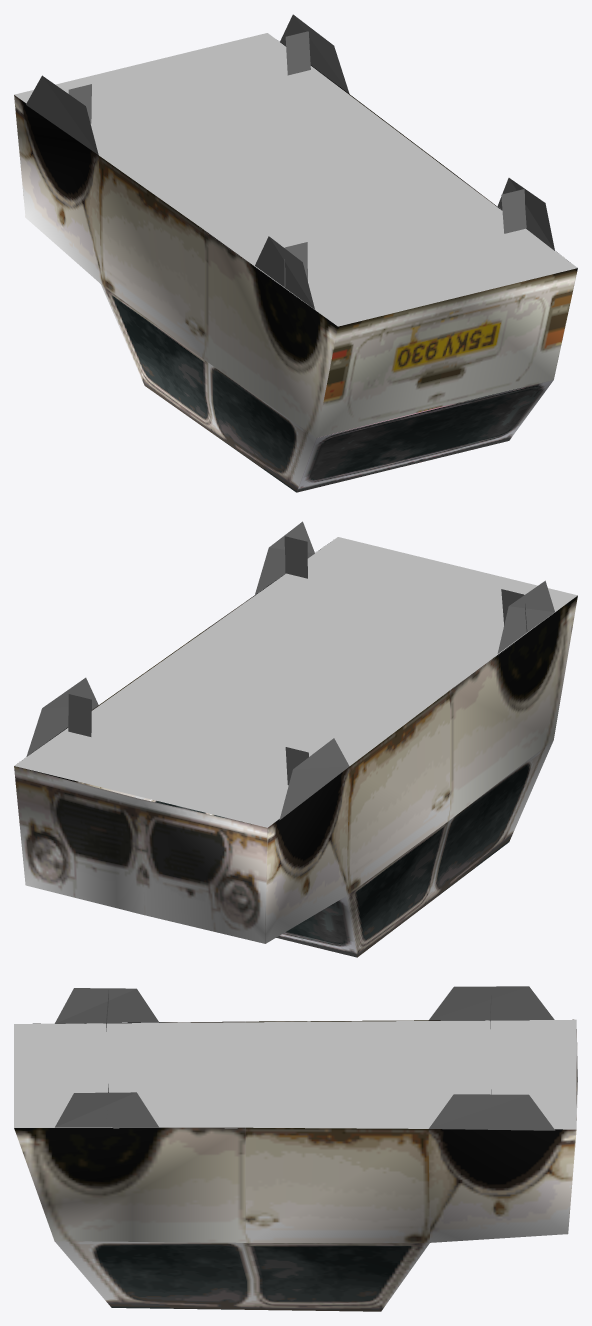
File: HAVANA_model12_low.obj
3 views of the same model, one above another, from view 1: azimuth 30°, elevation 25°; view 2: azimuth 150°, elevation 25°; view 3: azimuth 270°, elevation 25° (orthographic). The views are drawn at different scales.
Visible parts, largest first — view 1: HAVANA_model12_low; view 2: HAVANA_model12_low; view 3: HAVANA_model12_low.
Part boxes in pixels (left/top/right/bottom): HAVANA_model12_low: left=14, top=14, right=577, bottom=492; HAVANA_model12_low: left=14, top=521, right=577, bottom=957; HAVANA_model12_low: left=14, top=986, right=577, bottom=1311.
Bounding box in the file's own units: 186 × 178 × 404.
